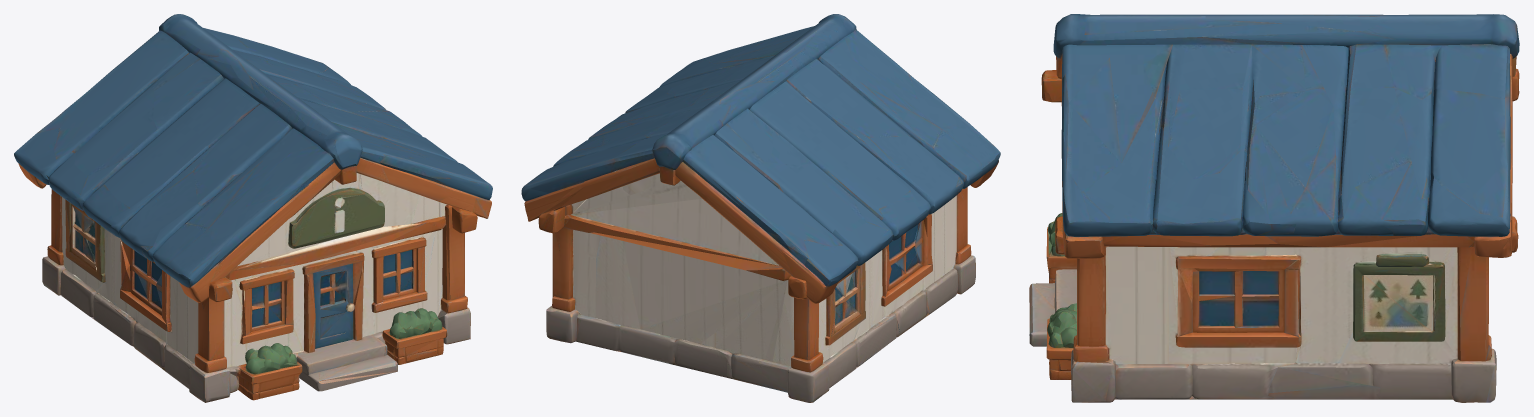
The model's file is salonBuilding.glb.
3 renders of one model, left to right at view 1: azimuth 30°, elevation 25°; view 2: azimuth 150°, elevation 25°; view 3: azimuth 270°, elevation 25°, orthographic. The views are drawn at different scales.
Visible parts, largest first — view 1: Mesh_0; view 2: Mesh_0; view 3: Mesh_0.
Boxes of the visible parts, bbox=[...] form: Mesh_0: bbox=[14, 14, 492, 402]; Mesh_0: bbox=[521, 14, 1000, 402]; Mesh_0: bbox=[1029, 14, 1519, 402].
Bounding box in the file's own units: 2.85 × 2.07 × 3.
Materials: 1 (1 with a texture image).
